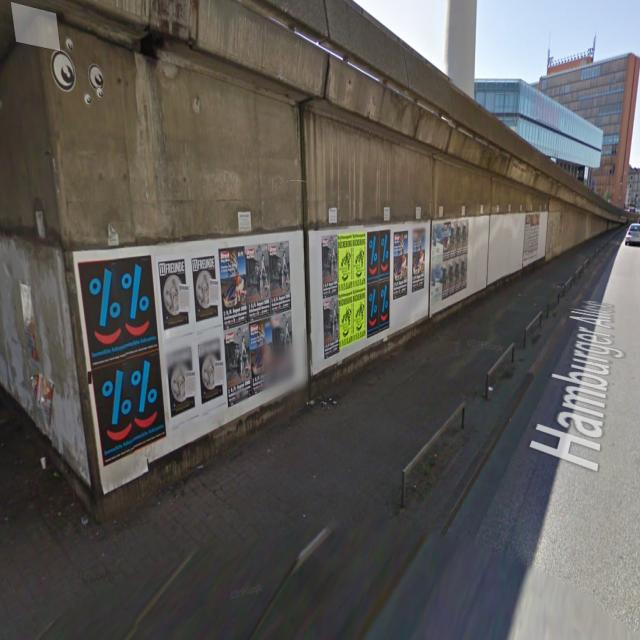Werbetafel frei: (71, 227, 310, 493), (308, 215, 431, 379), (429, 215, 489, 322), (487, 211, 525, 291), (523, 207, 548, 271)
